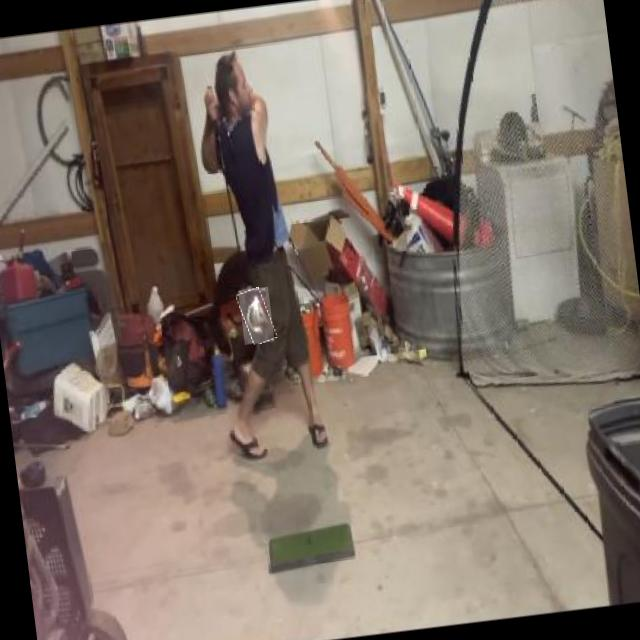club head: (238, 286, 274, 344)
